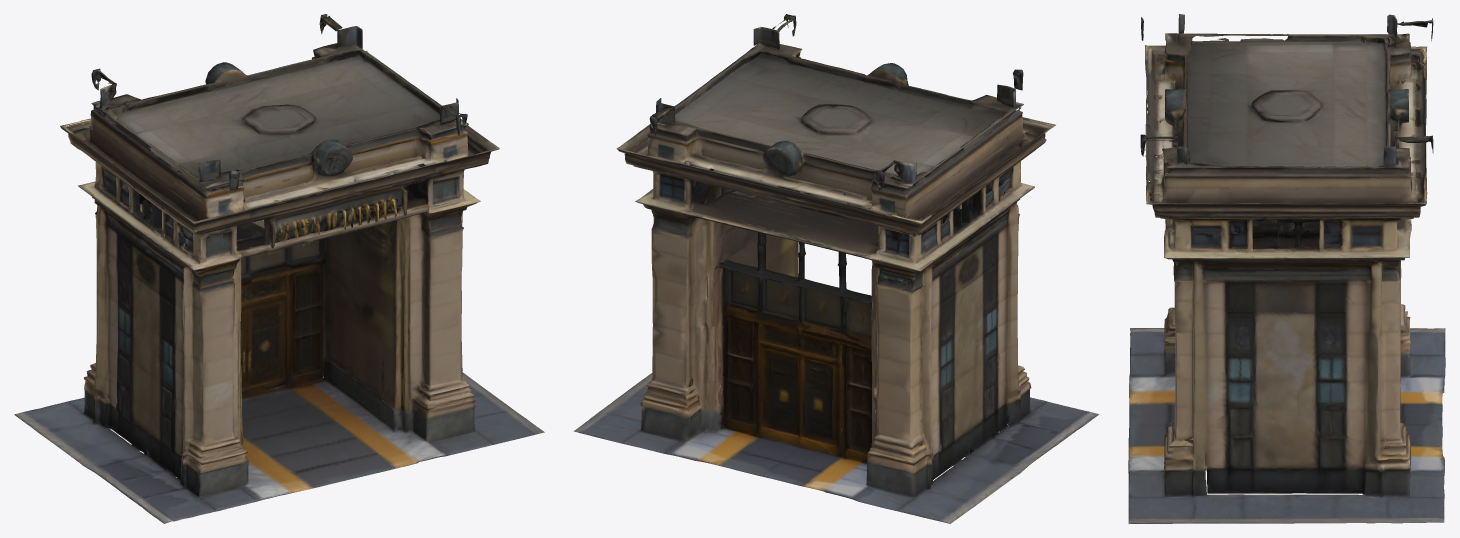
Rendered from bank.glb.
3 views of the same model, side by side, from view 1: azimuth 30°, elevation 25°; view 2: azimuth 150°, elevation 25°; view 3: azimuth 270°, elevation 25° (orthographic). The views are drawn at different scales.
Bounding box in the file's own units: 1.97 × 1.65 × 1.35.
Materials: 1 (1 with a texture image).
